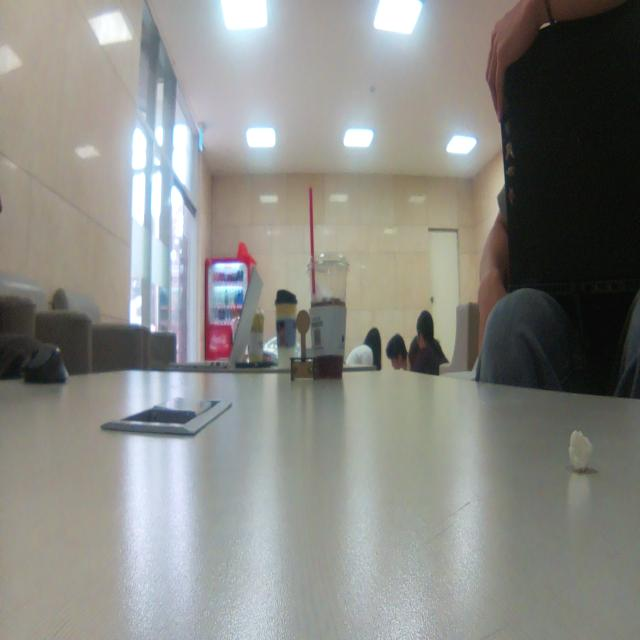target: (290, 308, 315, 382)
